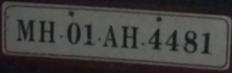0: (65, 19, 82, 45)
1: (82, 20, 96, 48), (201, 30, 213, 56)
4: (145, 25, 165, 53), (166, 27, 181, 53)
8: (183, 27, 199, 55)
A: (101, 23, 119, 51)
H: (121, 23, 140, 50), (38, 17, 56, 44)
M: (13, 14, 37, 45)
